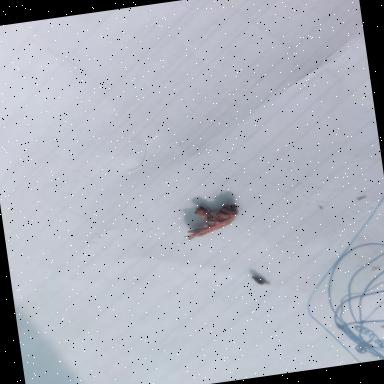pbw: (180, 201, 242, 242)
